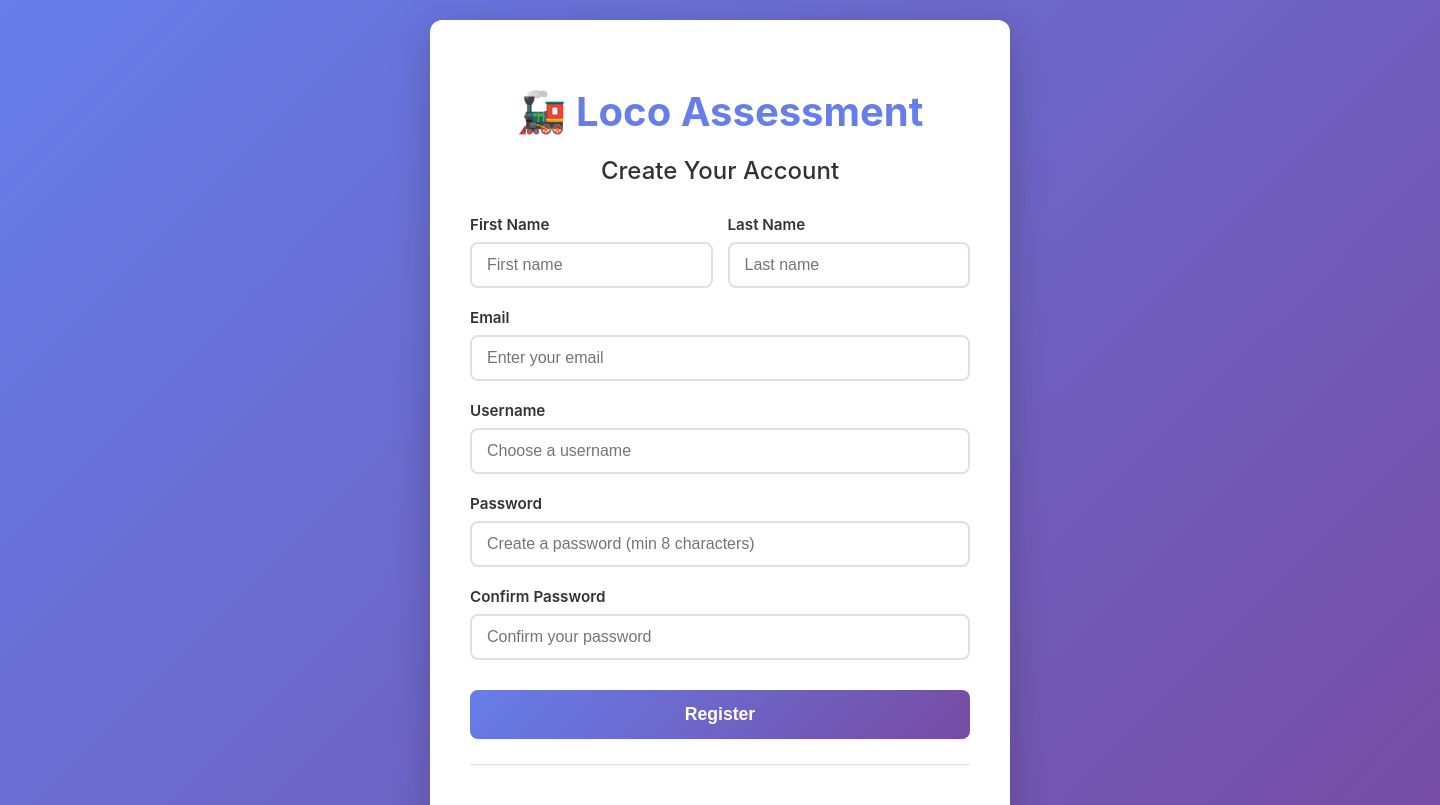
Test case: Register Component › displays loading state during registration
Type "John" into the field labelled "First Name" at coordinates (591, 265), box [470,242,712,288]
Type "Doe" into the field labelled "Last Name" at coordinates (849, 265), box [728,242,970,288]
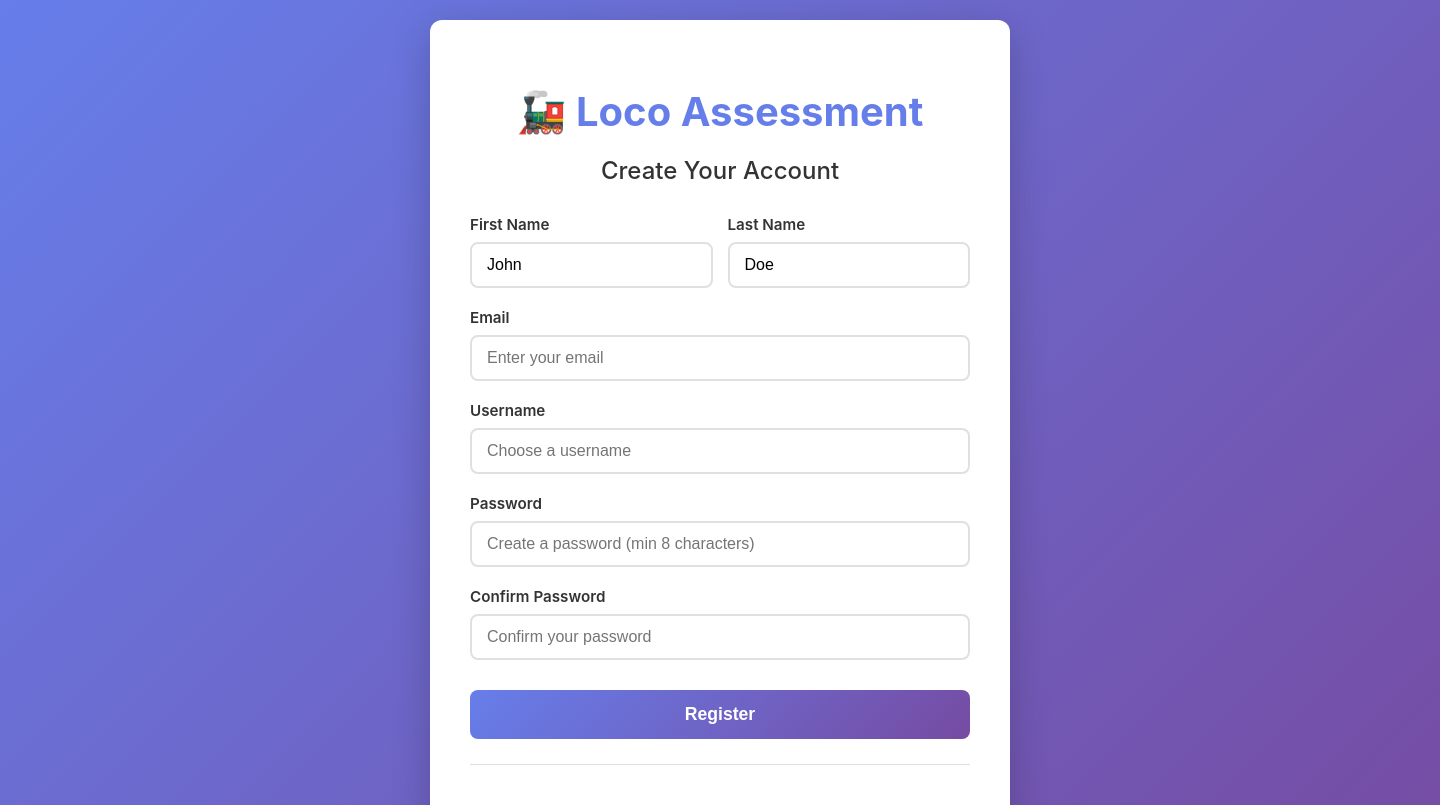
Type "john@example.com" into the field labelled "Email" at coordinates (720, 358), box [470,335,970,381]
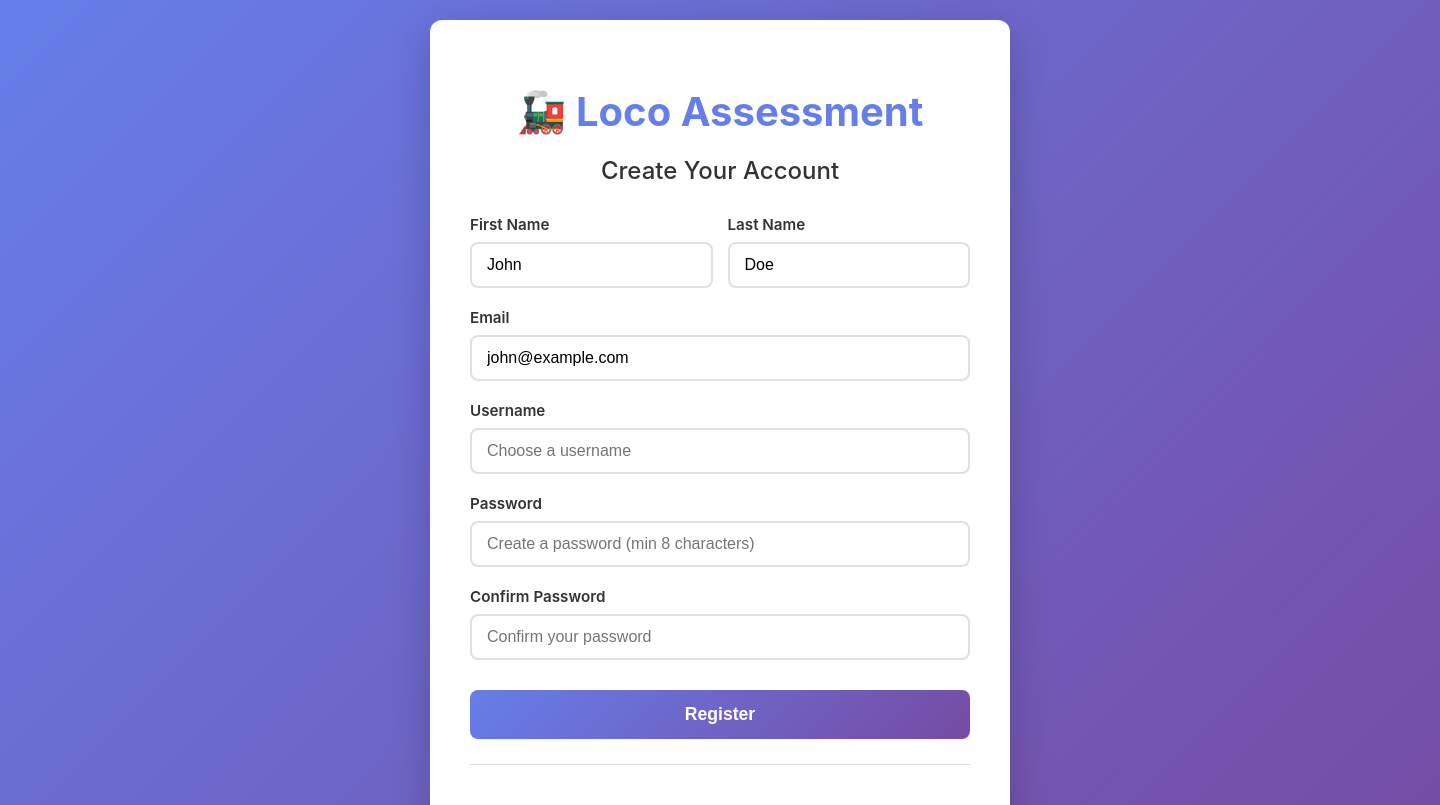
Type "johndoe" into the field labelled "Username" at coordinates (720, 451), box [470,428,970,474]
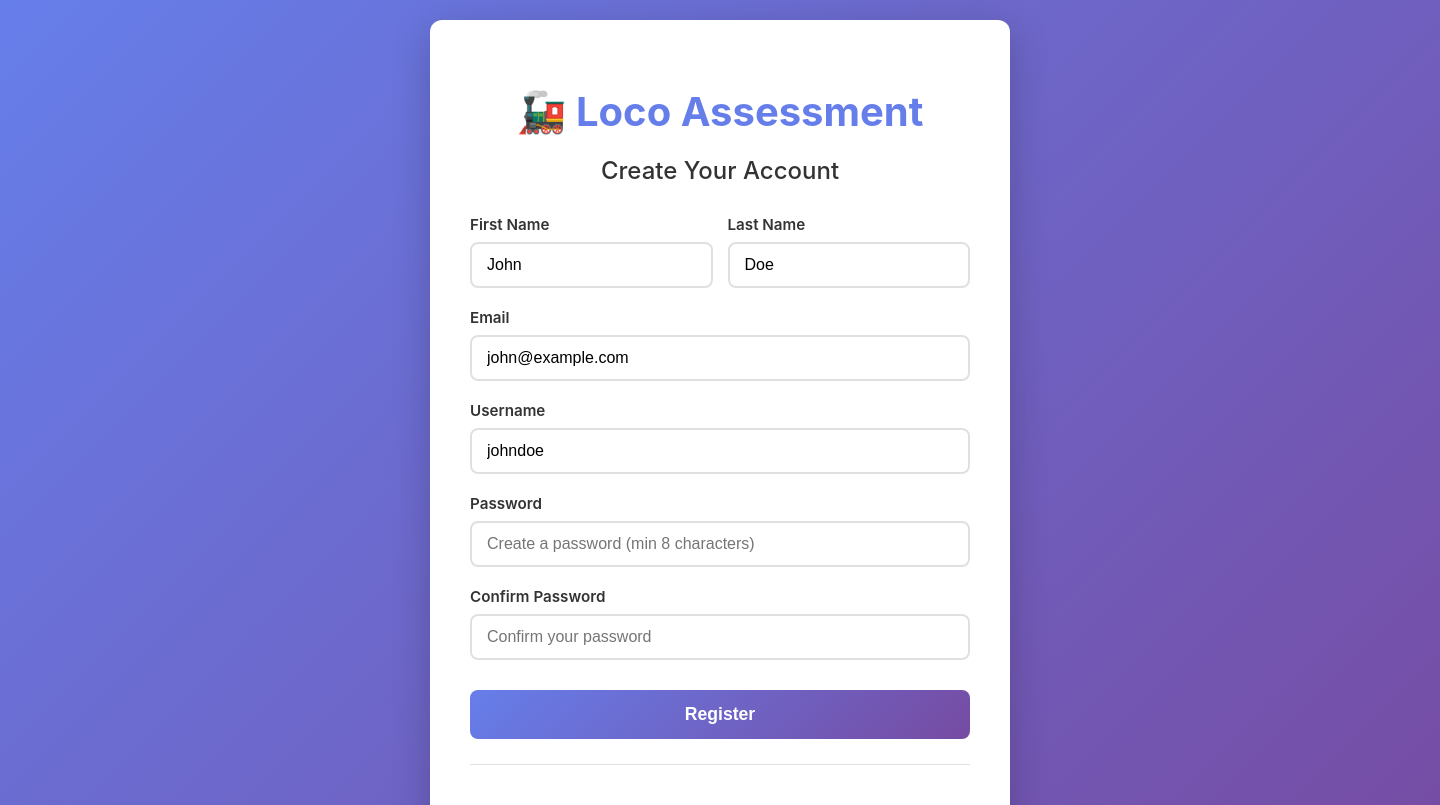
Type "password123" into the password field labelled "Password" at coordinates (720, 544), box [470,521,970,567]
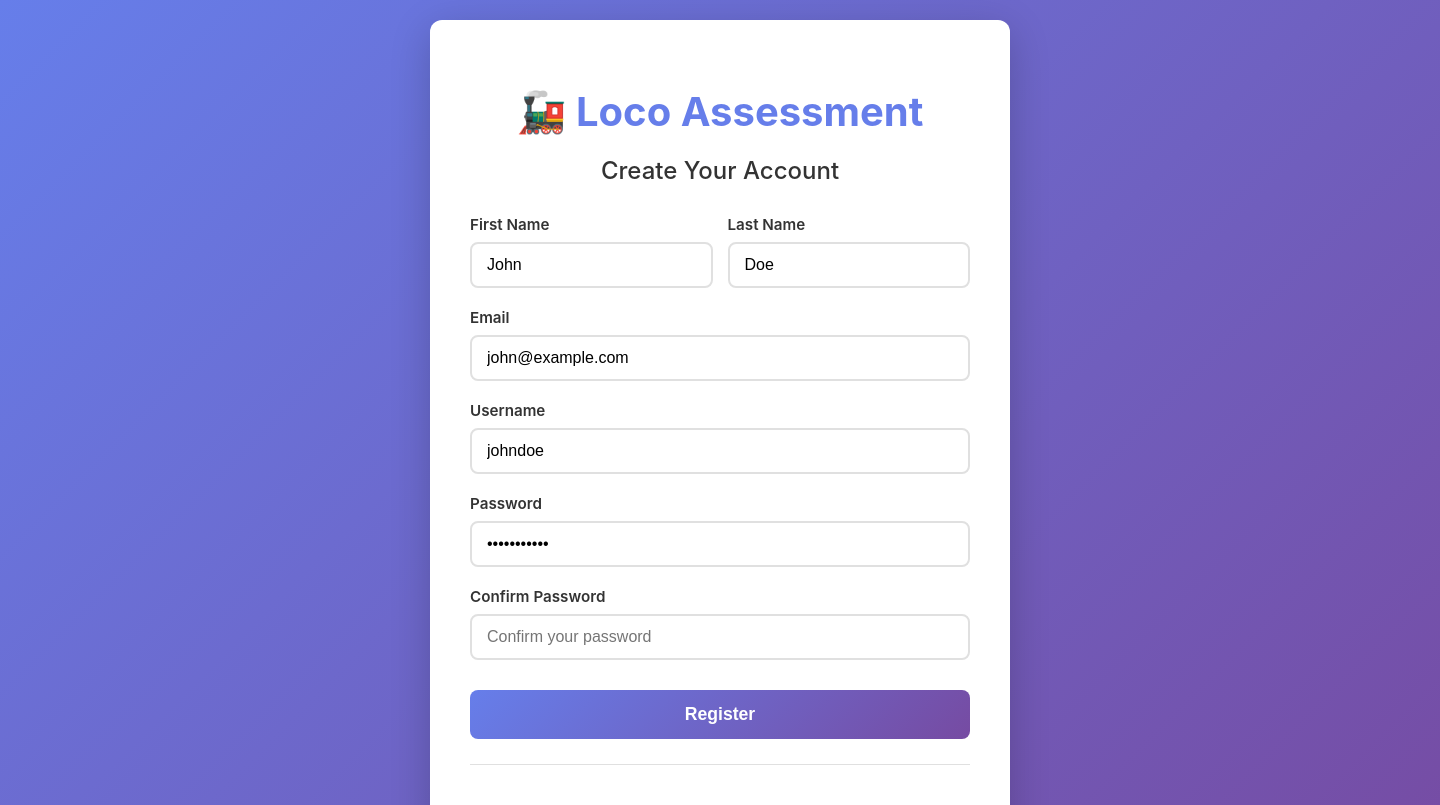
Type "password123" into the password field labelled "Confirm Password" at coordinates (720, 637), box [470,614,970,660]
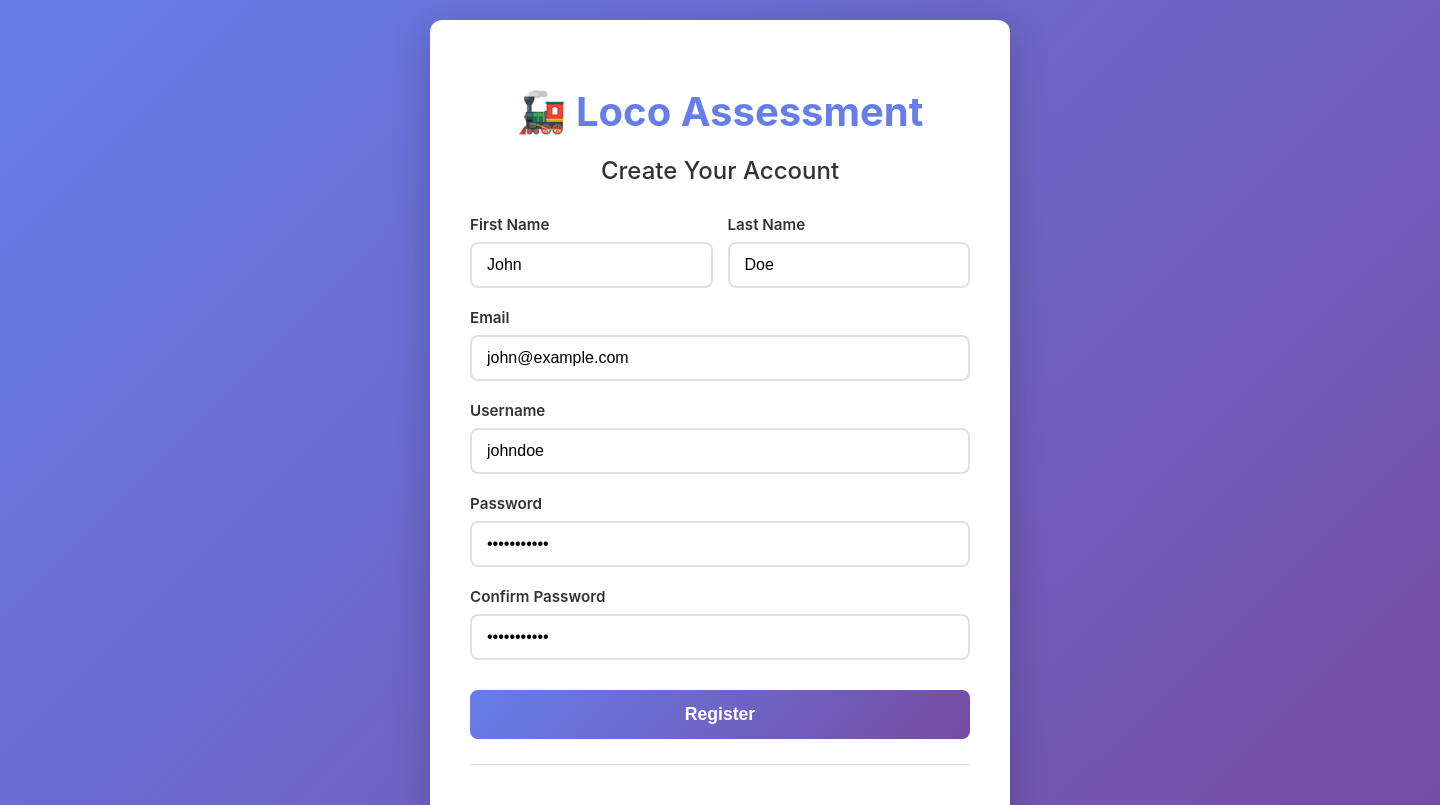
Click the button "Register" at coordinates (720, 714), box [470,690,970,739]
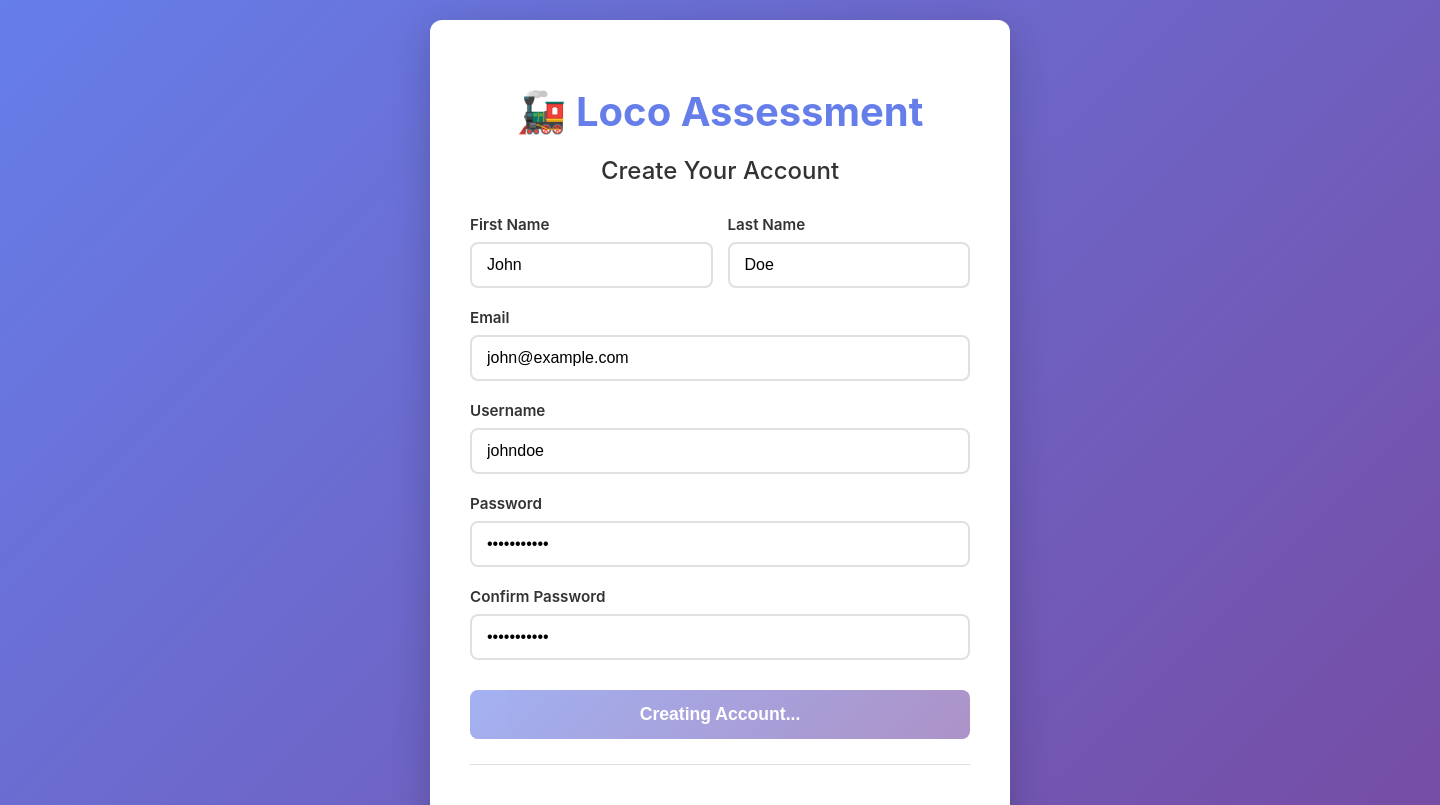
Now the button "Creating Account..." is disabled, box [470,690,970,739]
